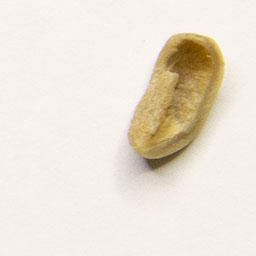defect: (123, 30, 228, 168)
